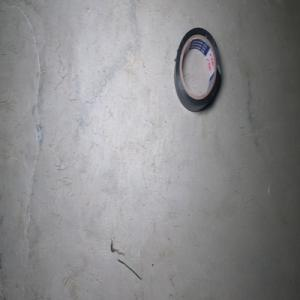Tape: (173, 26, 222, 111)
